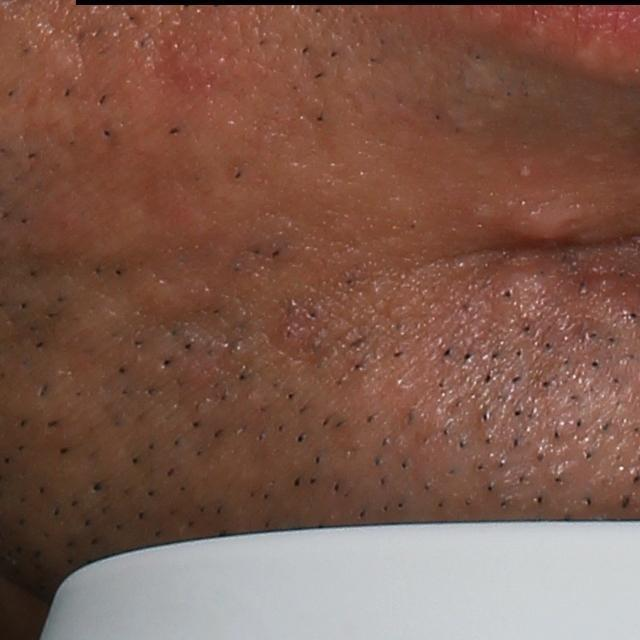hypertrophic_scar: (172, 98, 276, 225), (60, 193, 177, 264), (484, 182, 620, 241), (488, 245, 565, 319), (135, 264, 220, 319), (461, 59, 519, 114)
